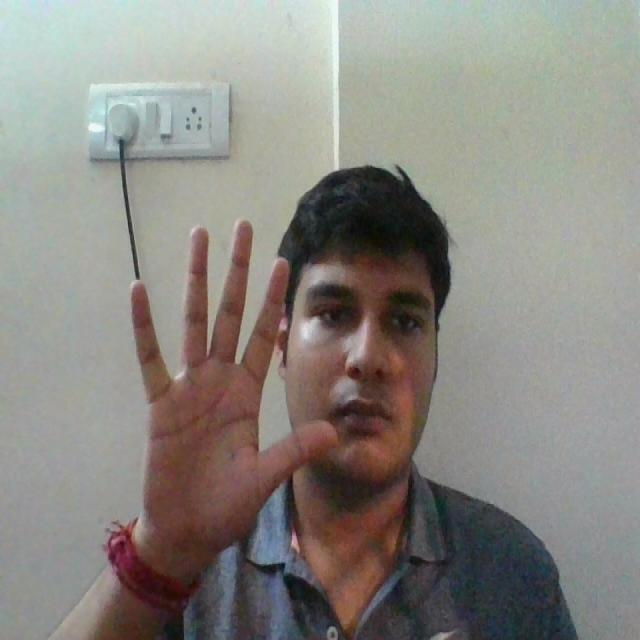Hello: (129, 203, 340, 560)
